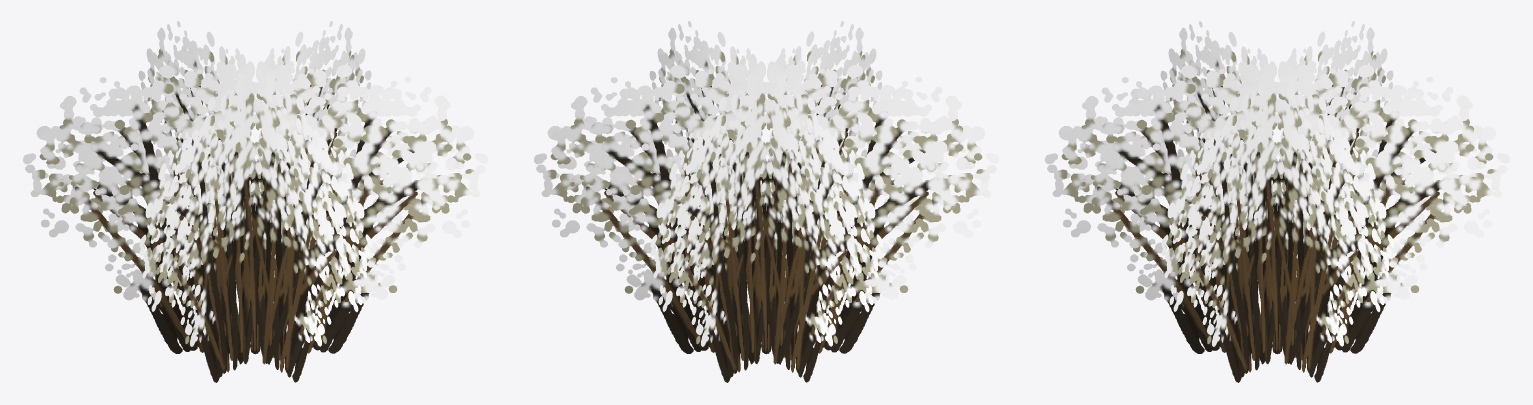
Rendered from HP3_bush023.fbx.
The picture shows the model from 3 angles, left to right: view 1: azimuth 30°, elevation 25°; view 2: azimuth 150°, elevation 25°; view 3: azimuth 270°, elevation 25°; orthographic projection.
Visible parts, largest first — view 1: HP3_bush023; view 2: HP3_bush023; view 3: HP3_bush023.
Part boxes in pixels (bbox=[...]): HP3_bush023: bbox=[23, 21, 487, 382]; HP3_bush023: bbox=[534, 21, 998, 382]; HP3_bush023: bbox=[1045, 21, 1509, 382].
Bounding box in the file's own units: 8.78 × 7.19 × 10.13.
